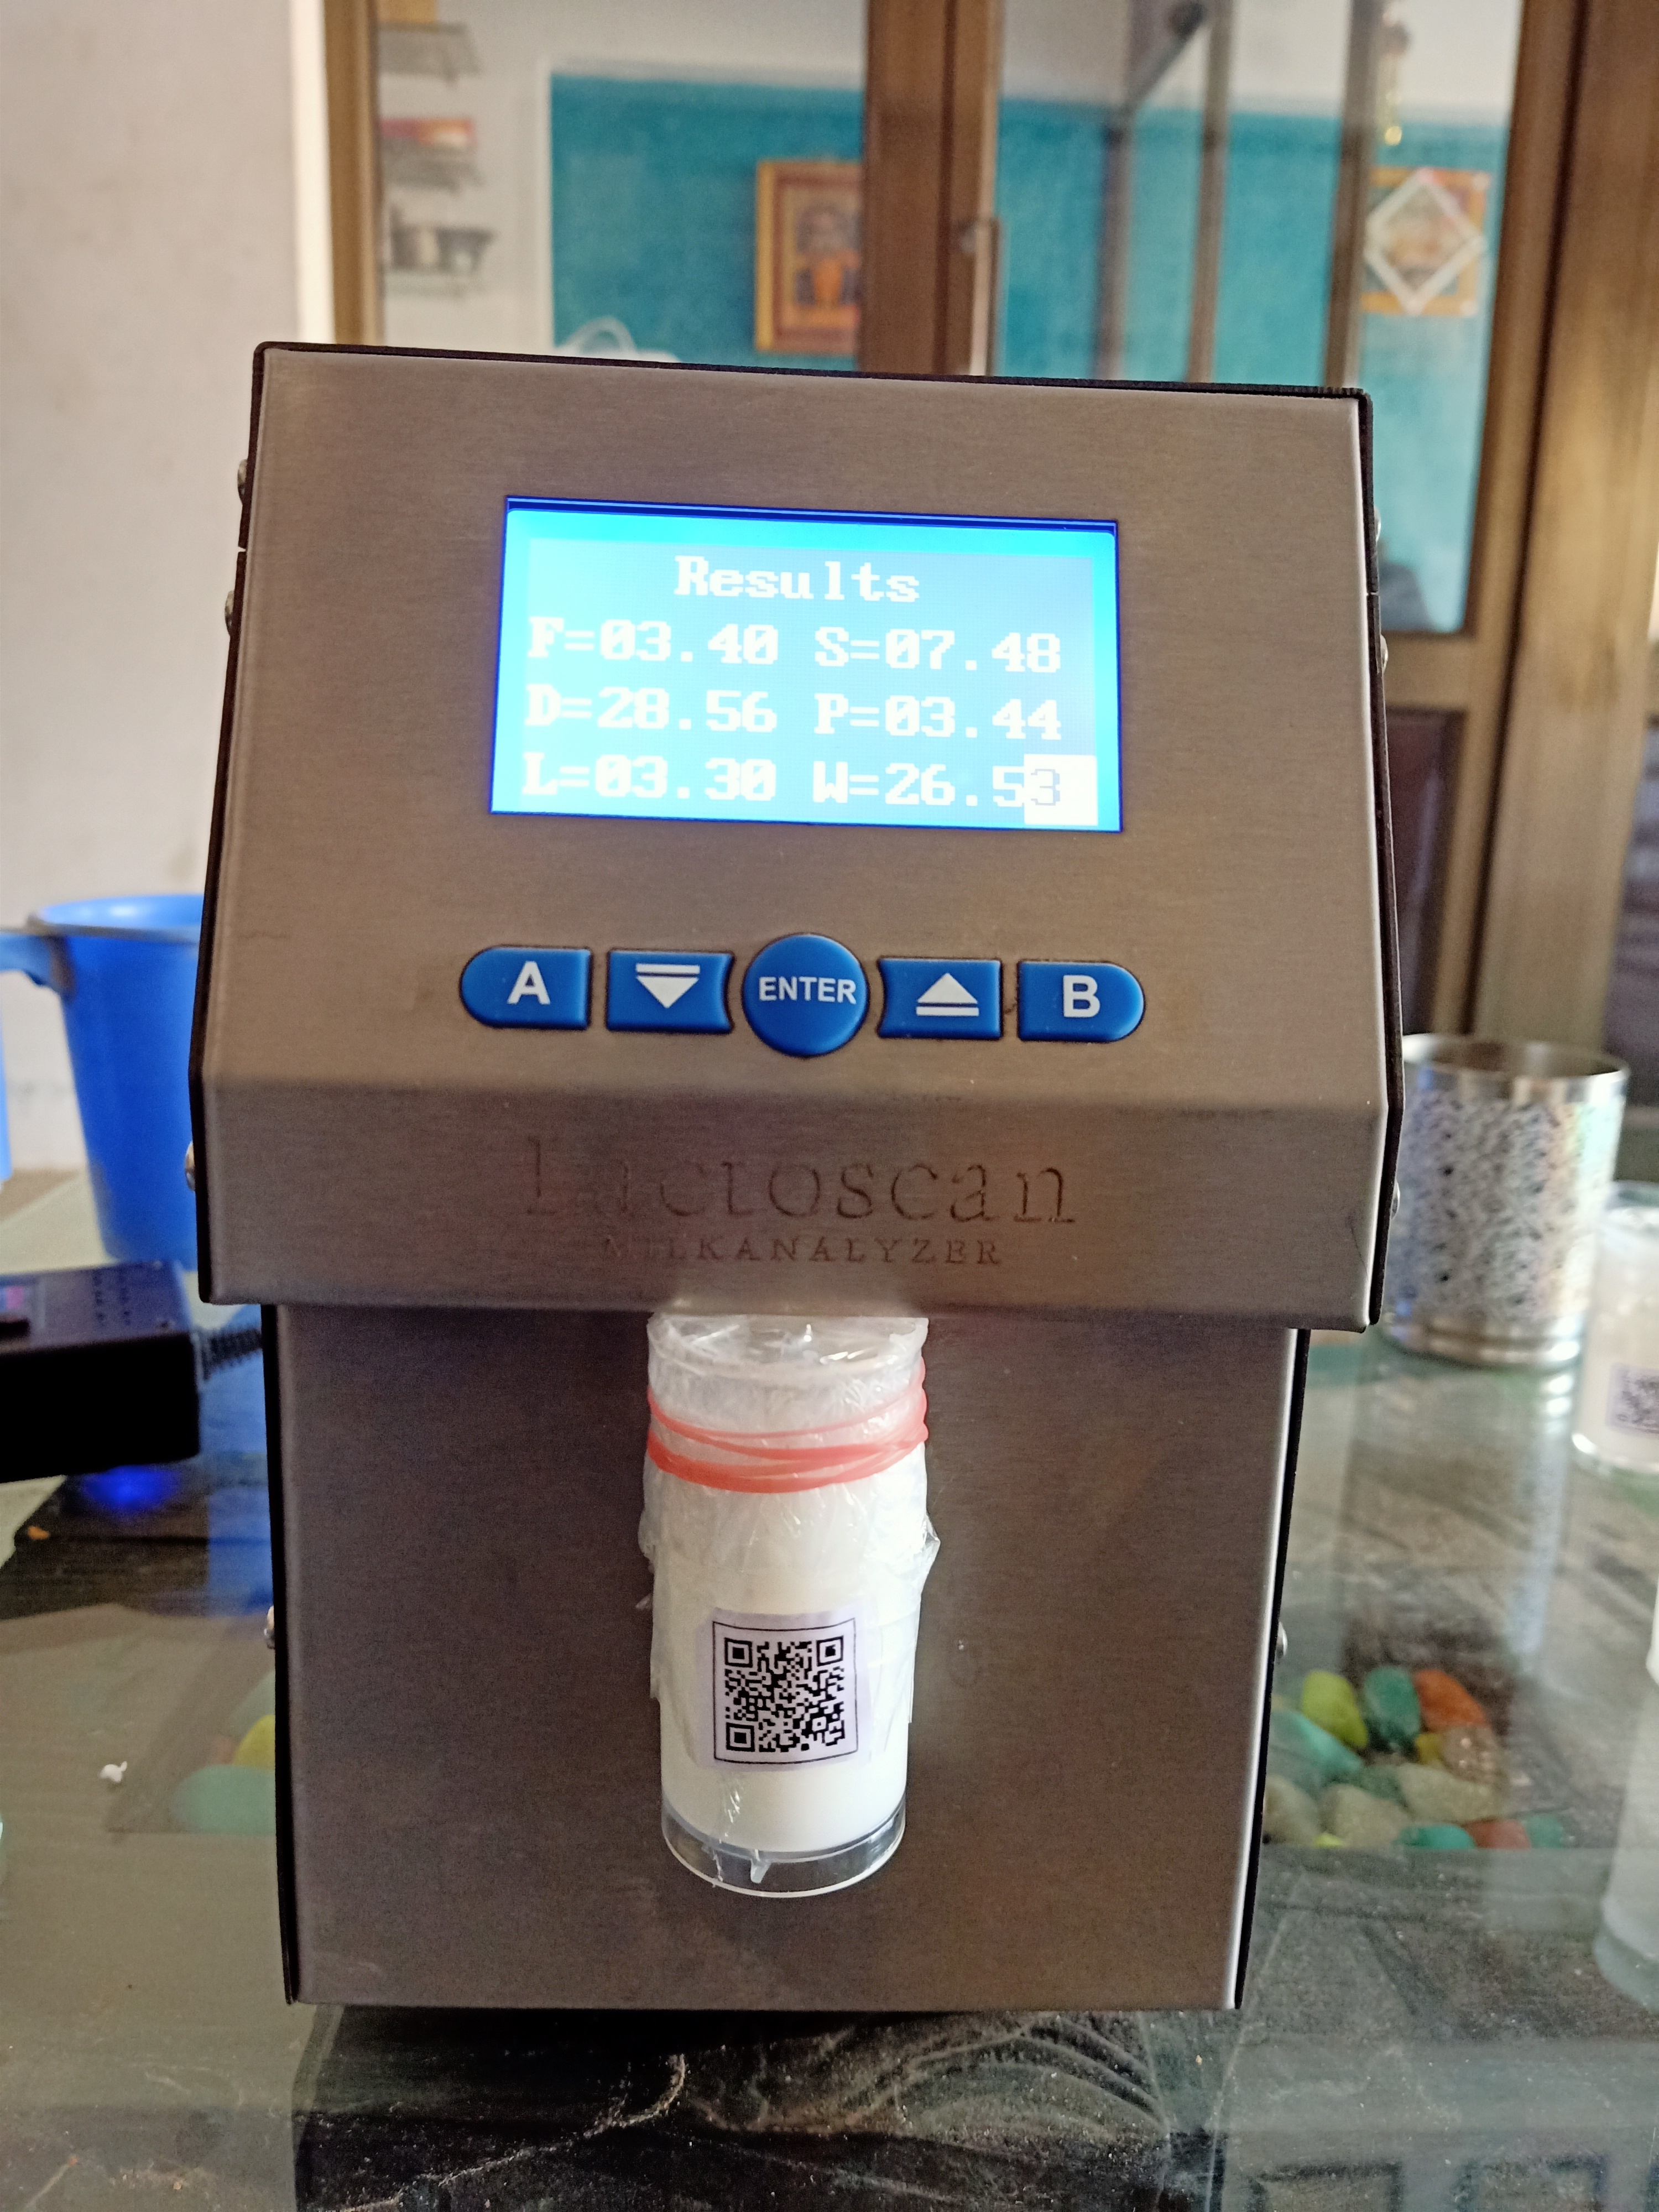lcd: (476, 484, 1143, 881)
qr: (714, 1615, 870, 1787)
